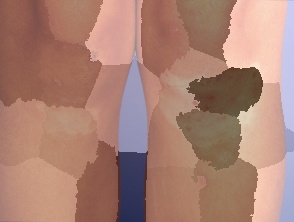vitiligo: (152, 0, 276, 206), (26, 28, 108, 157)
